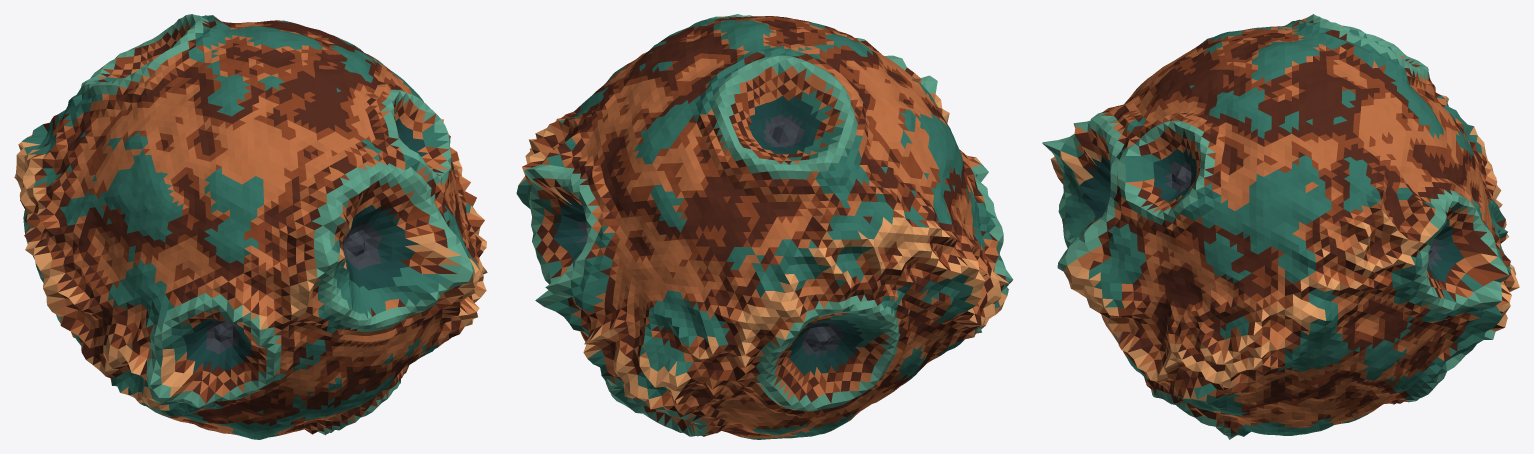
Rendered from ferrita.obj.
The picture shows the model from 3 angles, left to right: view 1: azimuth 30°, elevation 25°; view 2: azimuth 150°, elevation 25°; view 3: azimuth 270°, elevation 25°; orthographic projection. The views are drawn at different scales.
Parts seen in each view (by area): view 1: ferrita_|_cordilleras_y_crateres; view 2: ferrita_|_cordilleras_y_crateres; view 3: ferrita_|_cordilleras_y_crateres.
Boxes of the visible parts, x1,y1,x2,y2 form: ferrita_|_cordilleras_y_crateres: (14,14,487,439); ferrita_|_cordilleras_y_crateres: (516,14,1013,439); ferrita_|_cordilleras_y_crateres: (1042,14,1519,439).
Bounding box in the file's own units: 2.38 × 2.04 × 2.36.
